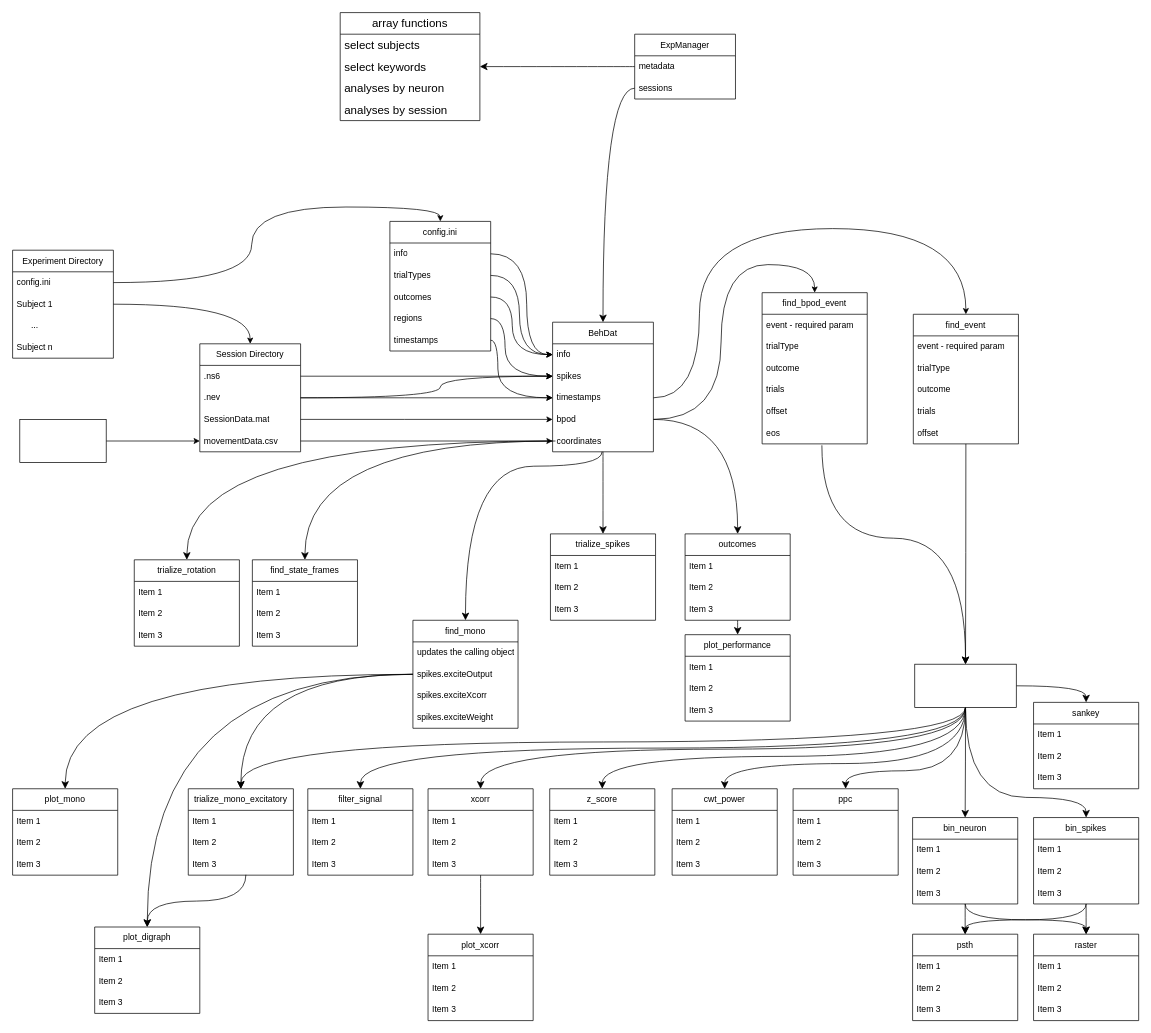
This 1151x1033 diagram has some shape labels left out. Here are the shapes that lost their labels. From the top down, the centre of each, then its label:
At (x=62, y=441): "DeepLabCut".
At (x=965, y=685): "timestamp vector".
